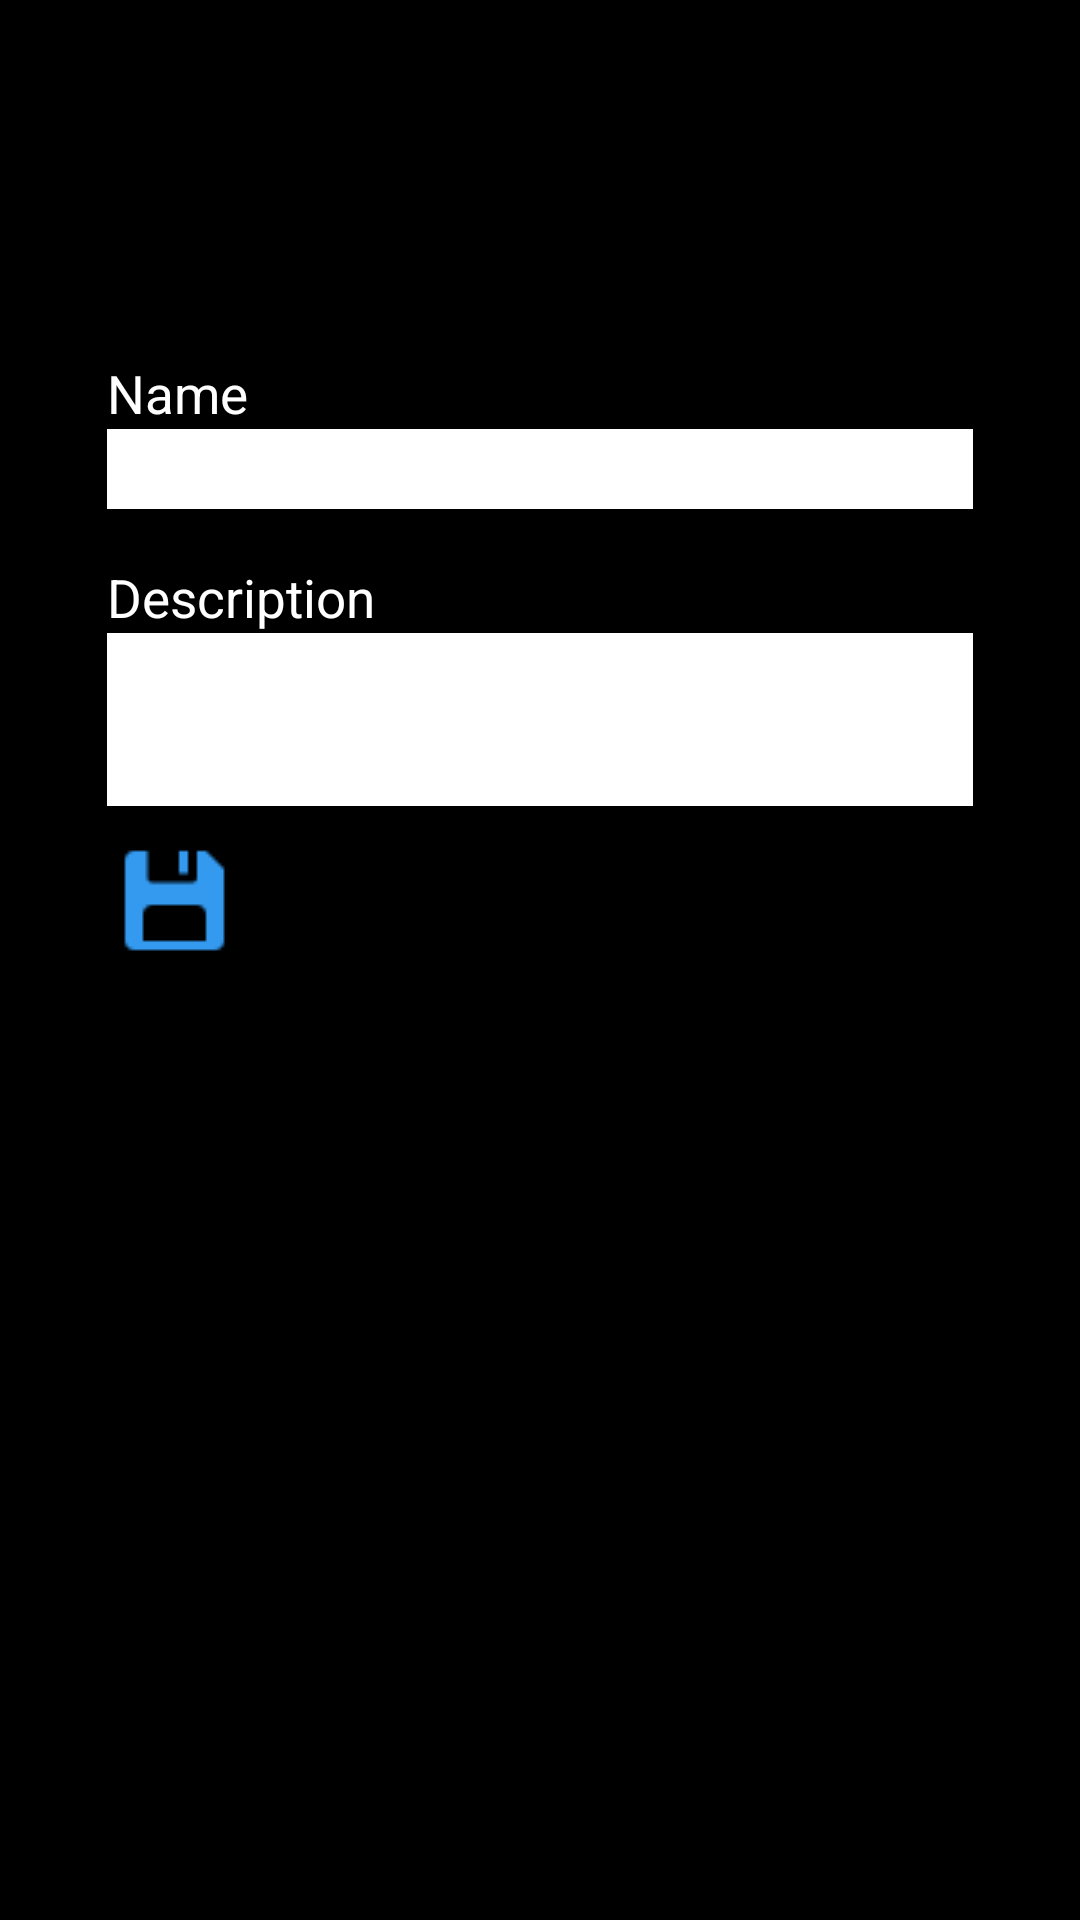

Icon bounding boxes for this 1080w x 1920h phone screenshot, format (x1, y1, x2, y2):
save: (124, 850, 225, 951)
